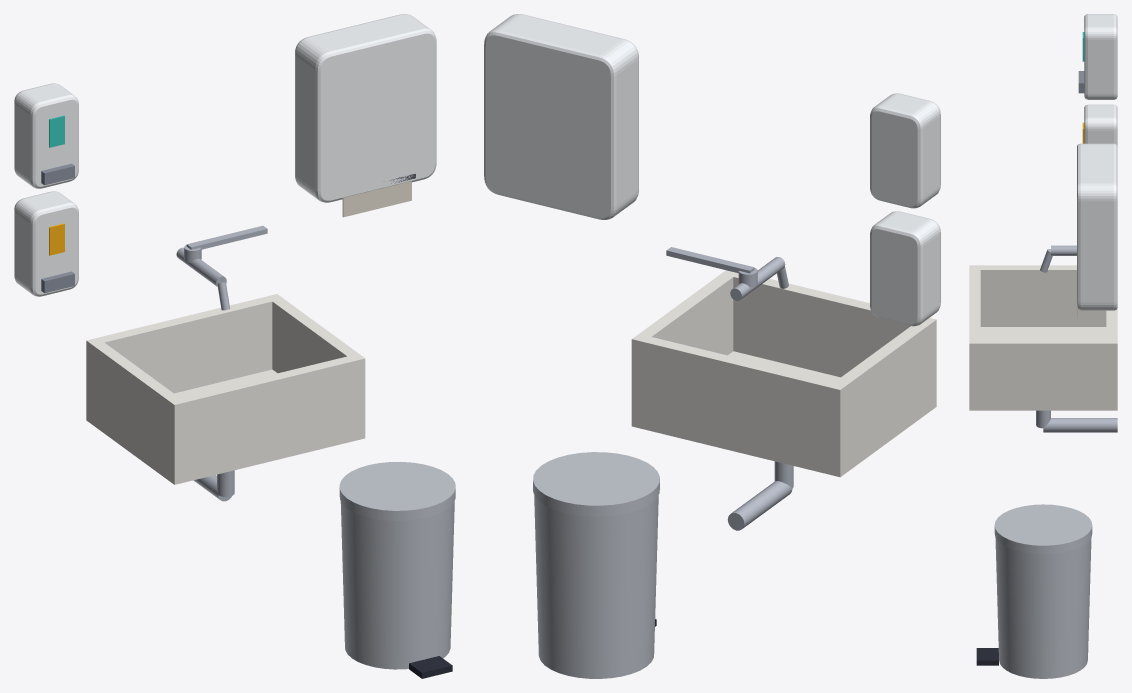
The model's file is hos-012.glb.
3 views of the same model, side by side, from view 1: azimuth 30°, elevation 25°; view 2: azimuth 150°, elevation 25°; view 3: azimuth 270°, elevation 25° (orthographic). The views are drawn at different scales.
Parts seen in each view (by area): view 1: ceramic_white, white, stainless, steel, paper, locker_grey, plastic_dark; view 2: ceramic_white, white, stainless, steel; view 3: ceramic_white, stainless, white, steel, plastic_dark.
Part boxes in pixels (x1,y1,x2,y2): ceramic_white: [86, 294, 365, 484]; white: [14, 14, 436, 296]; stainless: [339, 462, 455, 669]; steel: [176, 225, 267, 501]; paper: [342, 181, 411, 217]; locker_grey: [41, 163, 74, 293]; plastic_dark: [389, 174, 452, 678]; ceramic_white: [631, 270, 936, 477]; white: [484, 14, 940, 326]; stainless: [533, 452, 659, 678]; steel: [666, 247, 793, 530]; ceramic_white: [969, 265, 1117, 410]; stainless: [994, 504, 1092, 678]; white: [1077, 14, 1117, 310]; steel: [1036, 245, 1117, 432]; plastic_dark: [976, 648, 998, 665].
Size of the model in its own units: 1.05 by 1.52 by 0.4.
